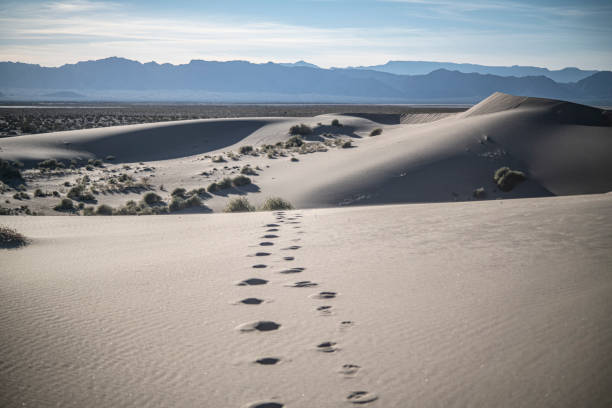human_footprint: (237, 320, 280, 331), (346, 391, 377, 403), (237, 278, 267, 285), (286, 281, 317, 287)
